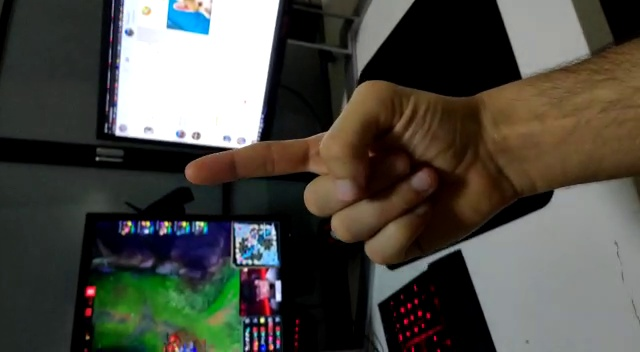One: (181, 73, 507, 269)
